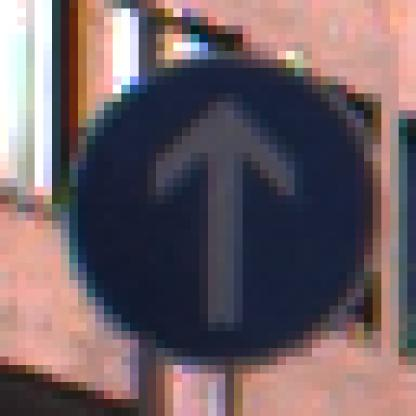AheadOnly: (53, 52, 374, 374)
